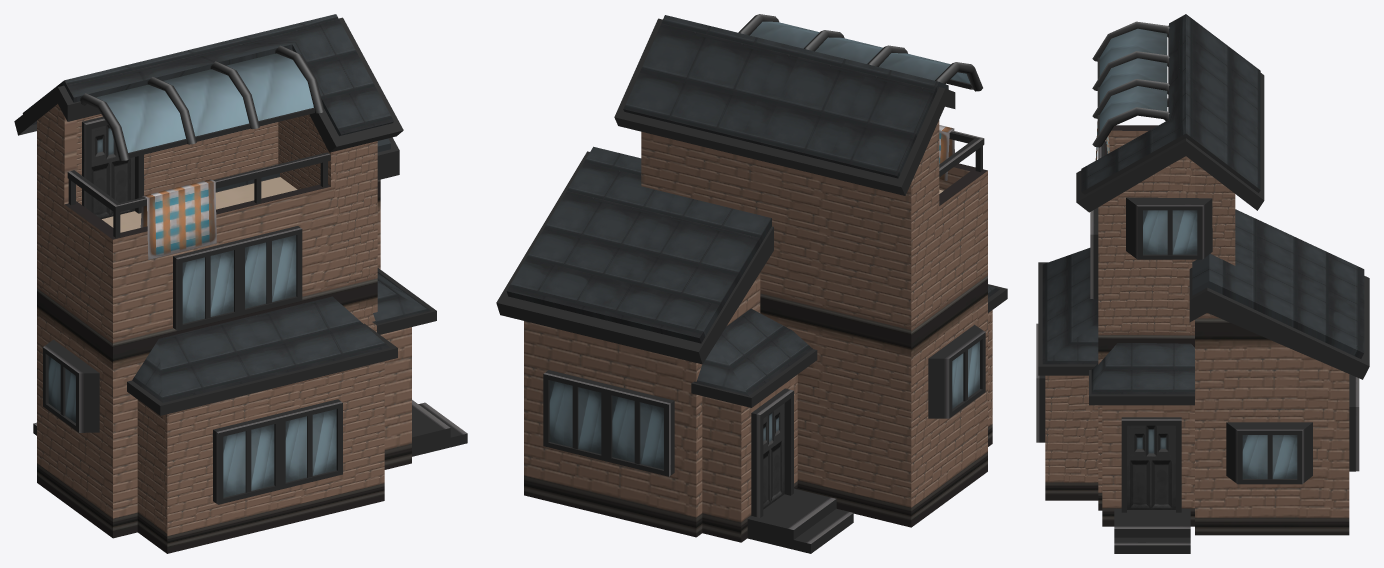
File: modern house-1.FBX
3 views of the same model, side by side, from view 1: azimuth 30°, elevation 25°; view 2: azimuth 150°, elevation 25°; view 3: azimuth 270°, elevation 25° (orthographic). The views are drawn at different scales.
Visible parts, largest first — view 1: modern house-1; view 2: modern house-1; view 3: modern house-1.
Boxes of the visible parts, <box> form: modern house-1: <box>14,14,467,553</box>; modern house-1: <box>496,14,1007,553</box>; modern house-1: <box>1036,14,1369,553</box>.
Bounding box in the file's own units: 3699 × 3937 × 3130.
